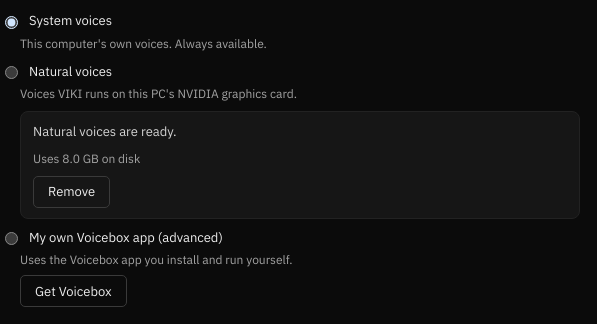
Test case: a rejected remove re-reads status; a poll state clears the error and the poll continues
Click the button "Remove". click: (72, 192)
box: [33,176,110,208]
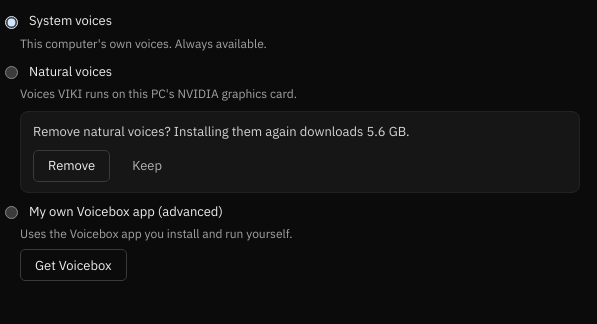
Click the button "Remove". click: (72, 166)
box: [33,150,110,182]
Wait 1000 ms
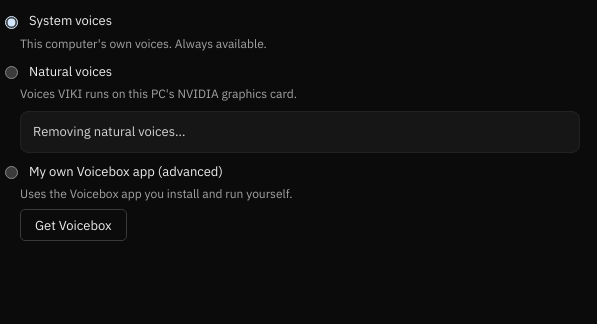
Expected: the message reads "Removing natural voices…", [33,123,185,140]
